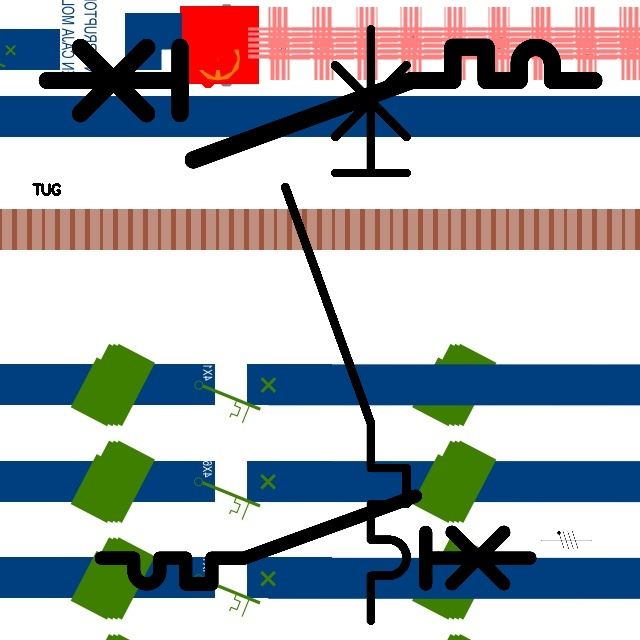interruptor_termomagnetico: (270, 14, 422, 636), (33, 33, 608, 173), (90, 485, 541, 595)
